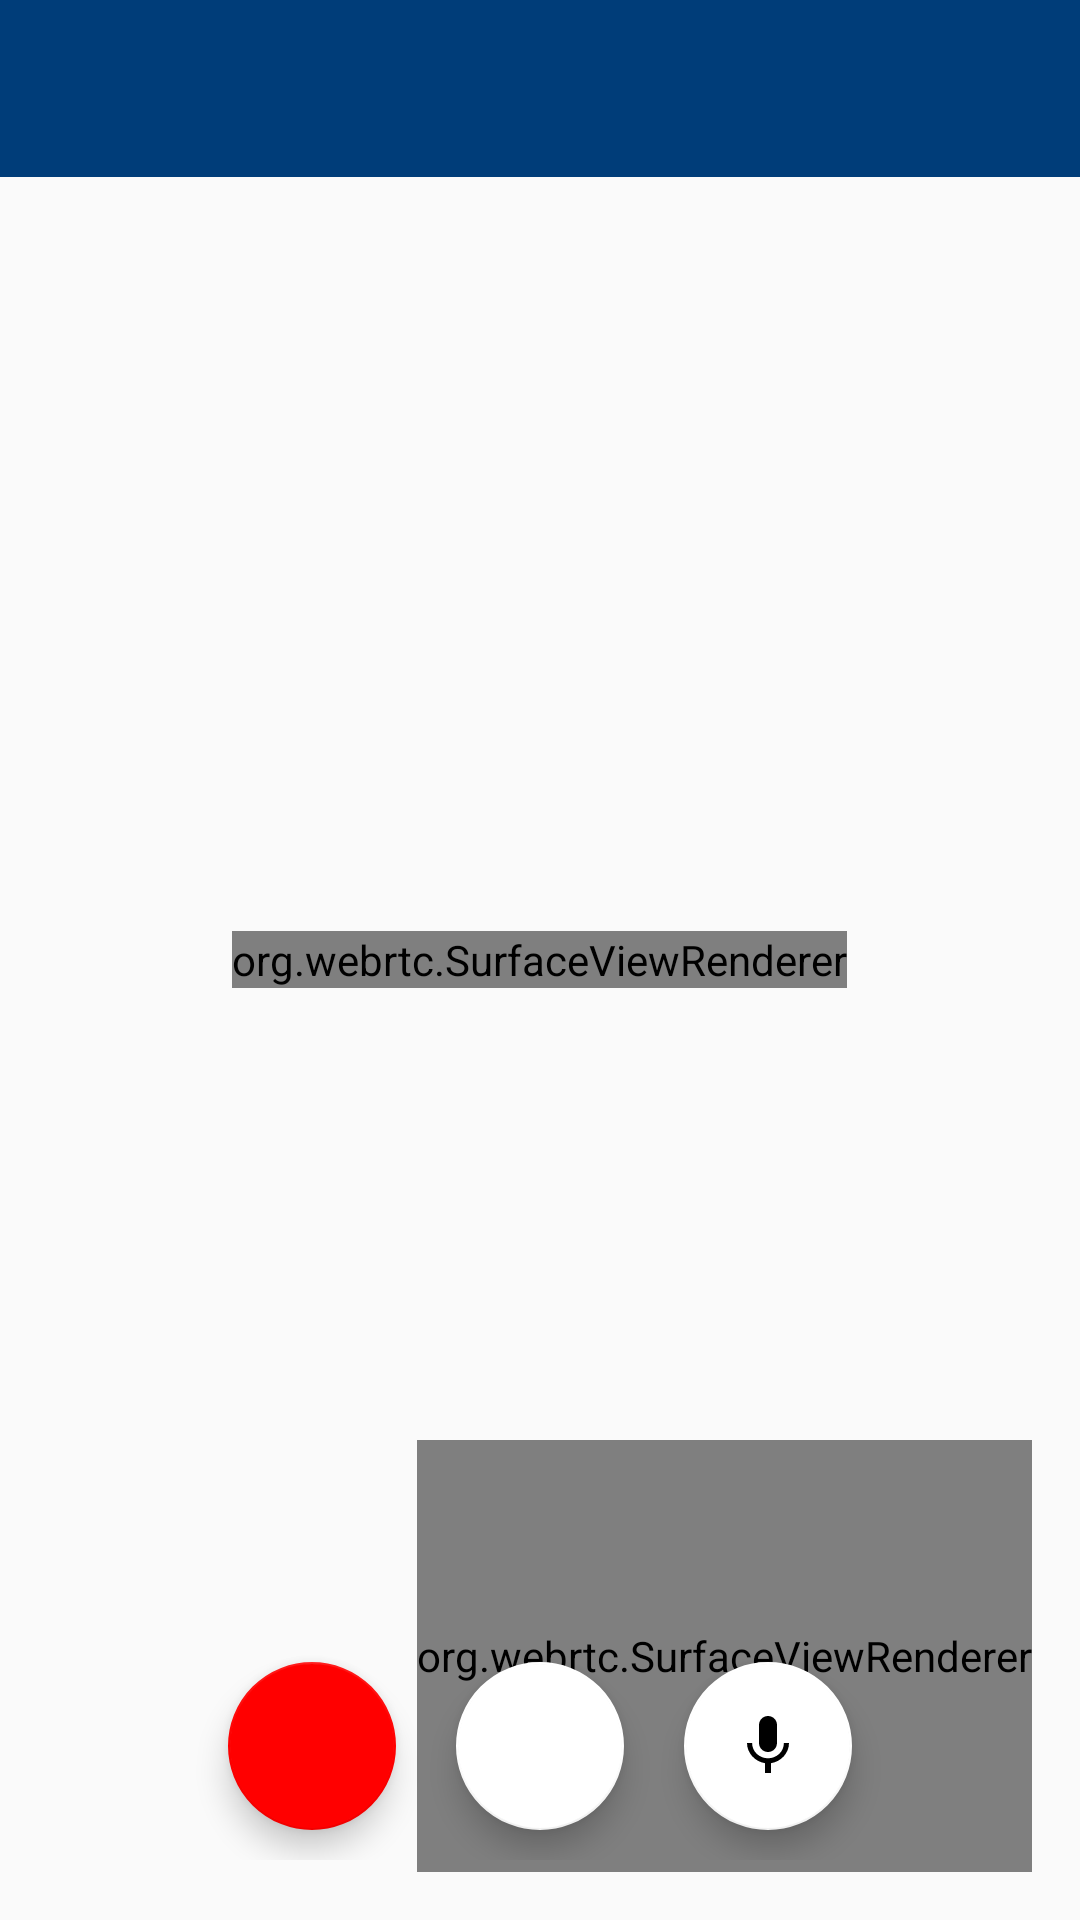

Where to tap for icons on this 1080*1920 app screen, as point (x, y):
mic: point (768, 1746)
